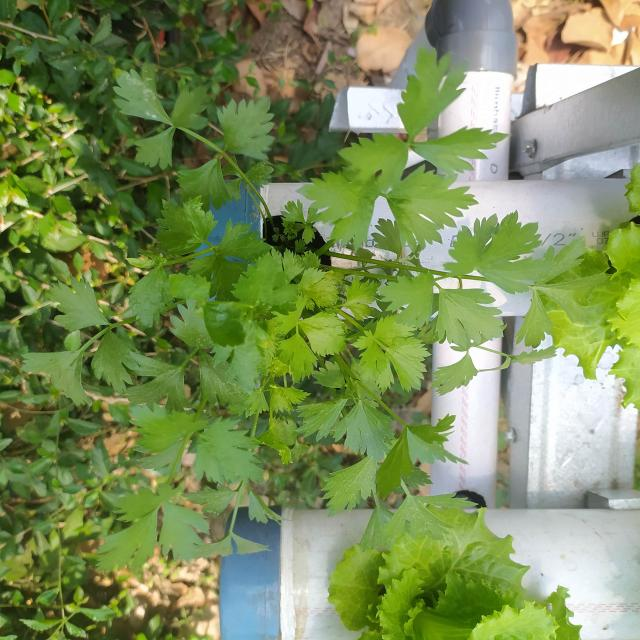Wet Waste: (104, 143, 622, 592)
